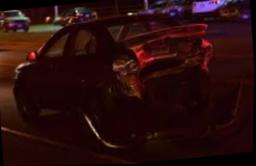Bumper: (87, 69, 240, 147)
Dickey: (110, 23, 206, 75)
Light: (112, 57, 140, 76), (198, 49, 214, 72)
